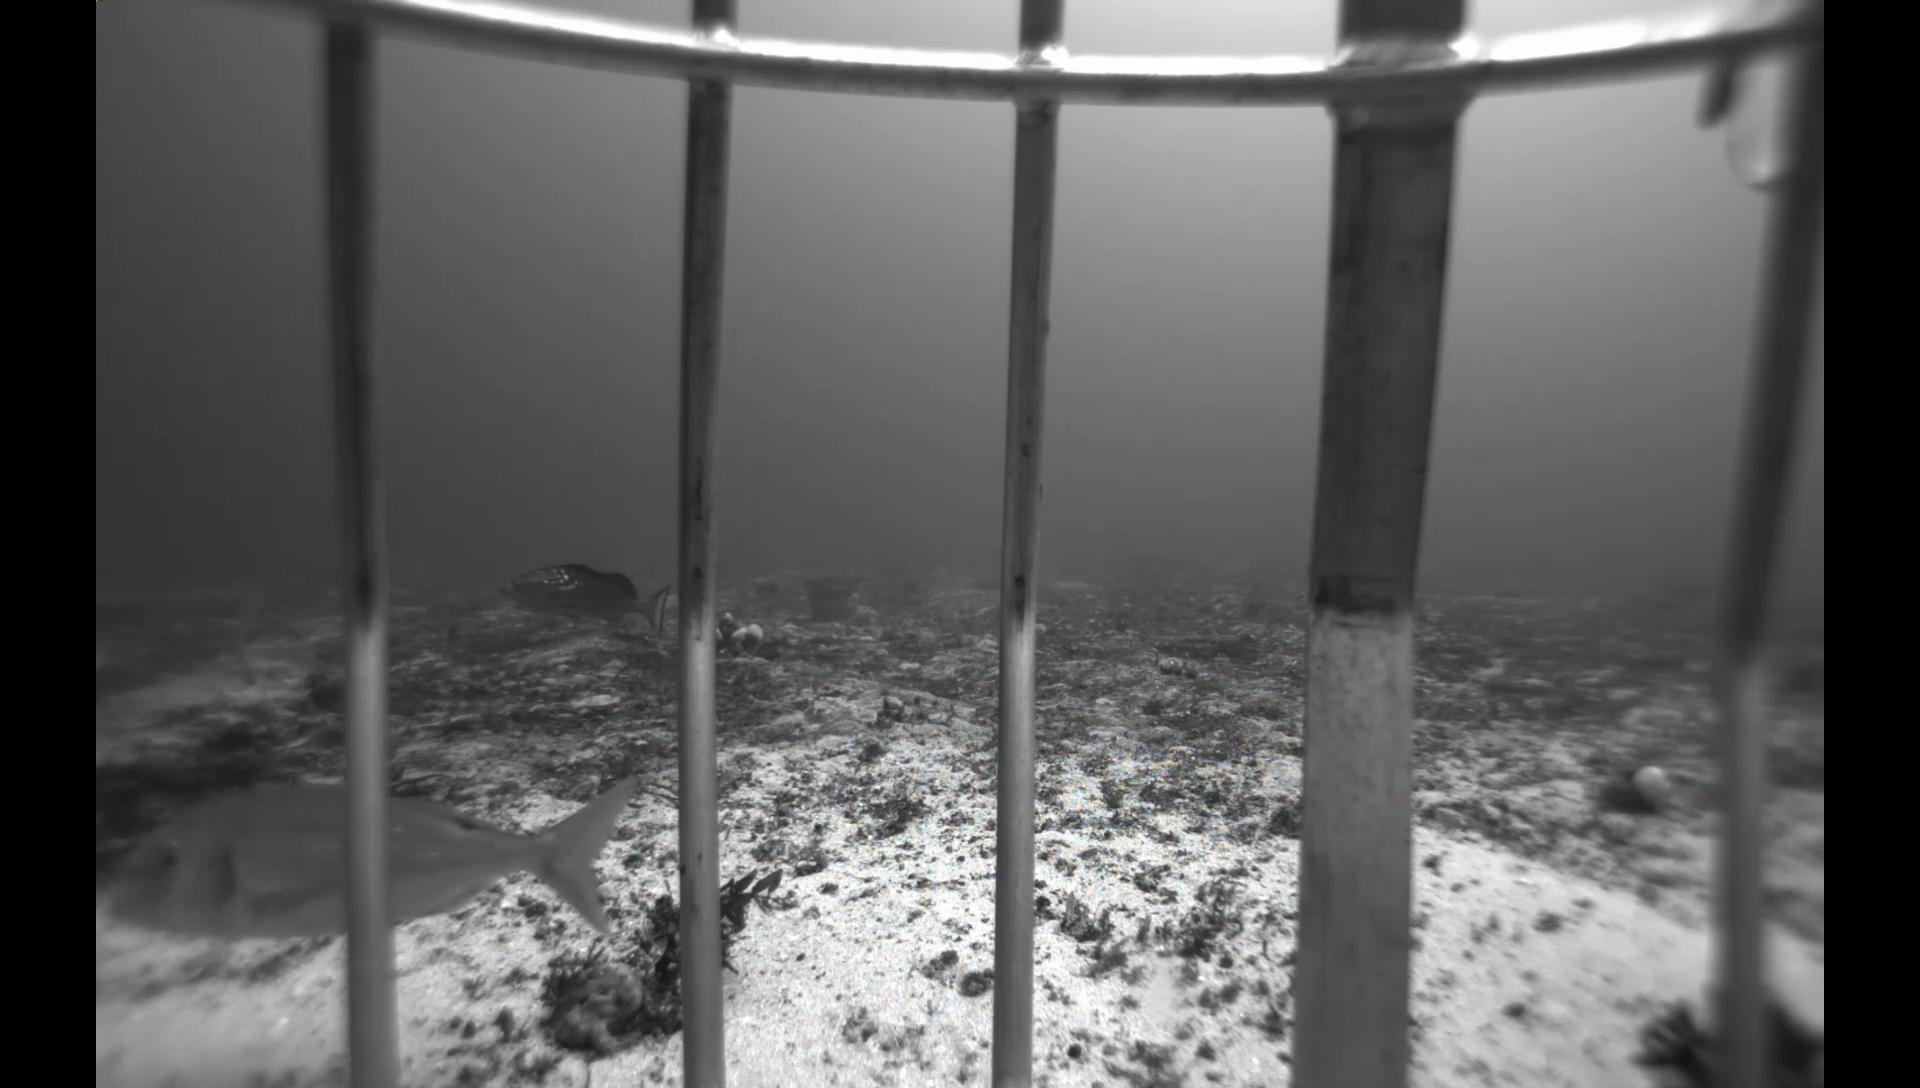CHAETODONOCELLATUS-170260307: (927, 560, 949, 582), (843, 564, 865, 582)
EPINEPHELUSMORIO-170021211: (487, 560, 675, 640)
PAGRUSPAGRUS-170212302: (99, 768, 676, 952)
PRISTIGENYSALTA-170050401: (305, 669, 345, 717)
